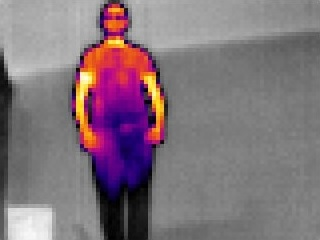human: (72, 2, 166, 240)
